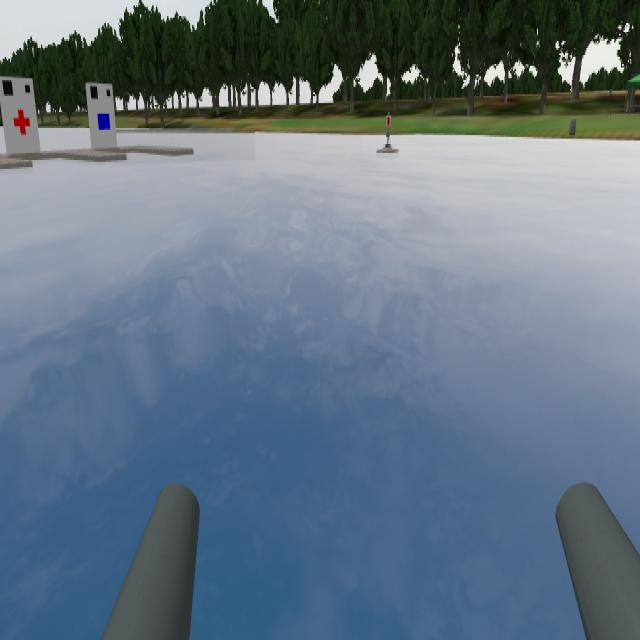red_pole: (381, 110, 404, 134)
